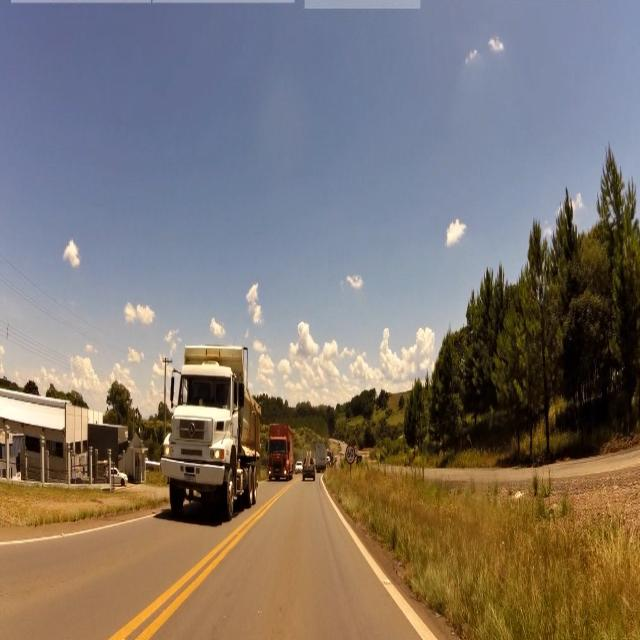R-19: (345, 443, 356, 464)
